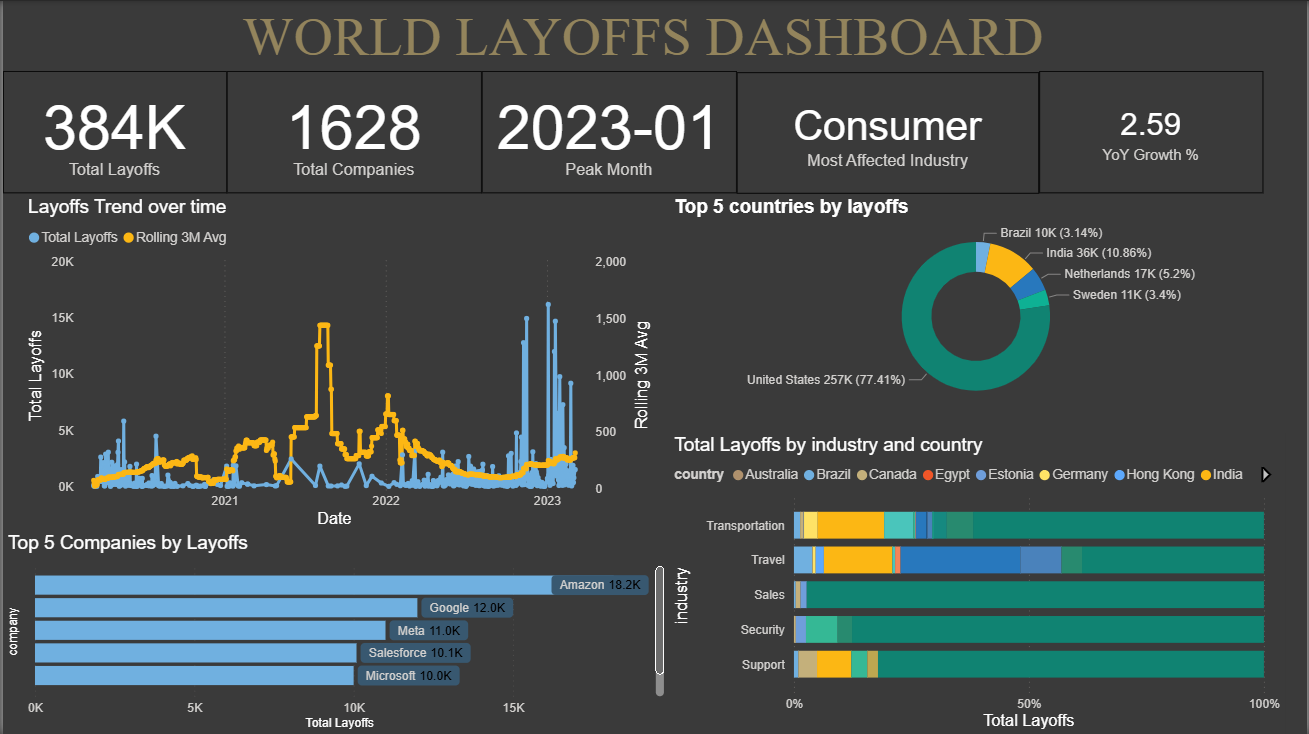

What the dashboard file says about the page in this screenshot:
{"tool":"powerbi","page":{"name":"Page 1","canvas":[1280,720],"ordinal":0},"visuals":[{"type":"textbox","box":[0,0,1256.4,71.2],"z":0},{"type":"card","fields":{"Values":["layoffs_cleaned.Total Layoffs"]},"box":[0,68.7,219.6,120.2],"z":1000},{"type":"card","fields":{"Values":["layoffs_cleaned.Total Companies"]},"box":[219.6,68.7,250.3,120.2],"z":2000},{"type":"card","fields":{"Values":["layoffs_cleaned.Peak Month"]},"box":[469.9,68.7,250.3,120.2],"z":3000},{"type":"actionButton","box":[0,0,100,40],"z":4000},{"type":"card","fields":{"Values":["layoffs_cleaned.Most Affected Industry"]},"box":[720.2,69.9,296.9,119],"z":5000},{"type":"card","fields":{"Values":["layoffs_cleaned.YoY Growth %"]},"box":[1017.2,68.7,219.6,120.2],"z":6000},{"type":"lineChart","title":"Layoffs Trend over time","fields":{"Y":["layoffs_cleaned.Total Layoffs"],"Category":["Date Table.Date"],"Y2":["layoffs_cleaned.Rolling 3M Avg"]},"box":[19.6,191.4,620.9,330.1],"z":7000},{"type":"clusteredBarChart","title":"Top 5 Companies by Layoffs","fields":{"Y":["layoffs_cleaned.Total Layoffs"],"Category":["layoffs_cleaned.company"]},"box":[0,521.5,654,198.8],"z":8000},{"type":"hundredPercentStackedBarChart","fields":{"Category":["layoffs_cleaned.industry"],"Y":["layoffs_cleaned.Total Layoffs"],"Series":["layoffs_cleaned.country"]},"box":[654,424.5,604.9,295.7],"z":9000},{"type":"donutChart","title":"Top 5 countries by layoffs","fields":{"Y":["layoffs_cleaned.Total Layoffs"],"Series":["layoffs_cleaned.country"]},"box":[654,191.4,602.5,216],"z":10000}]}

Visuals, with their boxes in screenshot pixels (x1, y1, x2, y2), scaled from the page's 1280x720 canvas onto the 1309x734 screenshot:
textbox: (x1=0, y1=0, x2=1285, y2=73)
card - layoffs_cleaned.Total Layoffs: (x1=0, y1=70, x2=225, y2=193)
card - layoffs_cleaned.Total Companies: (x1=225, y1=70, x2=481, y2=193)
card - layoffs_cleaned.Peak Month: (x1=481, y1=70, x2=737, y2=193)
actionButton: (x1=0, y1=0, x2=102, y2=41)
card - layoffs_cleaned.Most Affected Industry: (x1=737, y1=71, x2=1040, y2=193)
card - layoffs_cleaned.YoY Growth %: (x1=1040, y1=70, x2=1265, y2=193)
"Layoffs Trend over time" lineChart: (x1=20, y1=195, x2=655, y2=532)
"Top 5 Companies by Layoffs" clusteredBarChart: (x1=0, y1=532, x2=669, y2=733)
hundredPercentStackedBarChart - layoffs_cleaned.industry x layoffs_cleaned.Total Layoffs: (x1=669, y1=433, x2=1287, y2=733)
"Top 5 countries by layoffs" donutChart: (x1=669, y1=195, x2=1285, y2=415)
